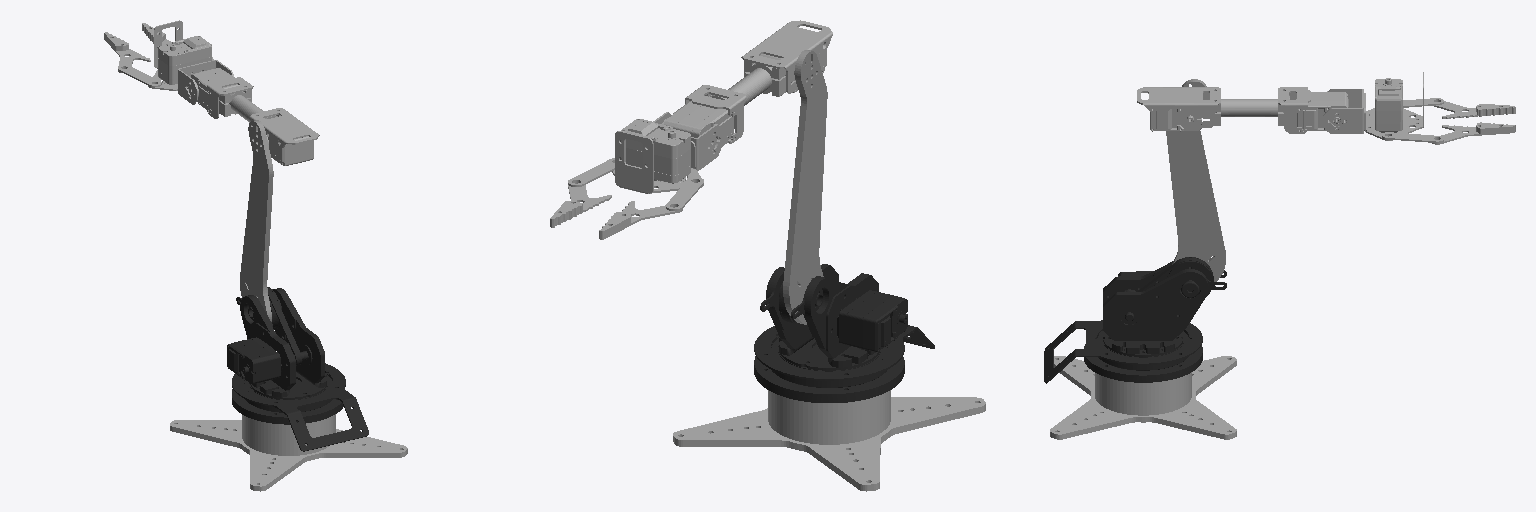
robot.urdf — roarm_assembly:
<?xml version="1.0" ?>
<!-- =================================================================================== -->
<!-- |    This document was autogenerated by xacro from [local-path]/ws_moveit/src/AgriBot/roarm_assembly_description/urdf/roarm_assembly.xacro | -->
<!-- |    EDITING THIS FILE BY HAND IS NOT RECOMMENDED                                 | -->
<!-- =================================================================================== -->
<robot name="roarm_assembly">
    <material name="silver_default">
        <color rgba="0.700 0.700 0.700 1.000" />
    </material>
    <material name="opaque565656">
        <color rgba="0.2196078431372549 0.2196078431372549 0.2196078431372549 1.0" />
    </material>
    <material name="steel_satin">
        <color rgba="0.6274509803921569 0.6274509803921569 0.6274509803921569 1.0" />
    </material>
    <transmission name="base_twist_tran">
        <type>transmission_interface/SimpleTransmission</type>
        <joint name="base_twist">
            <hardwareInterface>hardware_interface/PositionJointInterface</hardwareInterface>
        </joint>
        <actuator name="base_twist_actr">
            <hardwareInterface>hardware_interface/PositionJointInterface</hardwareInterface>
            <mechanicalReduction>1</mechanicalReduction>
        </actuator>
    </transmission>
    <transmission name="shoulder_tran">
        <type>transmission_interface/SimpleTransmission</type>
        <joint name="shoulder">
            <hardwareInterface>hardware_interface/PositionJointInterface</hardwareInterface>
        </joint>
        <actuator name="shoulder_actr">
            <hardwareInterface>hardware_interface/PositionJointInterface</hardwareInterface>
            <mechanicalReduction>1</mechanicalReduction>
        </actuator>
    </transmission>
    <transmission name="elbow_tran">
        <type>transmission_interface/SimpleTransmission</type>
        <joint name="elbow">
            <hardwareInterface>hardware_interface/PositionJointInterface</hardwareInterface>
        </joint>
        <actuator name="elbow_actr">
            <hardwareInterface>hardware_interface/PositionJointInterface</hardwareInterface>
            <mechanicalReduction>1</mechanicalReduction>
        </actuator>
    </transmission>
    <transmission name="wrist_tran">
        <type>transmission_interface/SimpleTransmission</type>
        <joint name="wrist">
            <hardwareInterface>hardware_interface/PositionJointInterface</hardwareInterface>
        </joint>
        <actuator name="wrist_actr">
            <hardwareInterface>hardware_interface/PositionJointInterface</hardwareInterface>
            <mechanicalReduction>1</mechanicalReduction>
        </actuator>
    </transmission>
    <transmission name="left_finger_tran">
        <type>transmission_interface/SimpleTransmission</type>
        <joint name="left_finger">
            <hardwareInterface>hardware_interface/PositionJointInterface</hardwareInterface>
        </joint>
        <actuator name="left_finger_actr">
            <hardwareInterface>hardware_interface/PositionJointInterface</hardwareInterface>
            <mechanicalReduction>1</mechanicalReduction>
        </actuator>
    </transmission>
    <transmission name="right_finger_tran">
        <type>transmission_interface/SimpleTransmission</type>
        <joint name="right_finger">
            <hardwareInterface>hardware_interface/PositionJointInterface</hardwareInterface>
        </joint>
        <actuator name="right_finger_actr">
            <hardwareInterface>hardware_interface/PositionJointInterface</hardwareInterface>
            <mechanicalReduction>1</mechanicalReduction>
        </actuator>
    </transmission>
<gazebo>
  <plugin name="control" filename="libgazebo_ros_control.so"/>
</gazebo>
    <gazebo reference="base_link">
        <material>Gazebo/Silver</material>
        <mu1>0.2</mu1>
        <mu2>0.2</mu2>
        <selfCollide>true</selfCollide>
        <gravity>true</gravity>
    </gazebo>
    <gazebo reference="link_1">
        <material>Gazebo/Silver</material>
        <mu1>0.2</mu1>
        <mu2>0.2</mu2>
        <selfCollide>true</selfCollide>
    </gazebo>
    <gazebo reference="link_2">
        <material>Gazebo/Silver</material>
        <mu1>0.2</mu1>
        <mu2>0.2</mu2>
        <selfCollide>true</selfCollide>
    </gazebo>
    <gazebo reference="link_3">
        <material>Gazebo/Silver</material>
        <mu1>0.2</mu1>
        <mu2>0.2</mu2>
        <selfCollide>true</selfCollide>
    </gazebo>
    <gazebo reference="eef_base">
        <material>Gazebo/Silver</material>
        <mu1>0.2</mu1>
        <mu2>0.2</mu2>
        <selfCollide>true</selfCollide>
    </gazebo>
    <gazebo reference="left_claw">
        <material>Gazebo/Silver</material>
        <mu1>0.2</mu1>
        <mu2>0.2</mu2>
        <selfCollide>true</selfCollide>
    </gazebo>
    <gazebo reference="right_claw">
        <material>Gazebo/Silver</material>
        <mu1>0.2</mu1>
        <mu2>0.2</mu2>
        <selfCollide>true</selfCollide>
    </gazebo>
    <link name="base_link">
        <inertial>
            <origin rpy="0 0 0" xyz="2.842170943040401e-16 1.6253665080512292e-15 0.010307344162242452" />
            <mass value="0.9330886709339293" />
            <inertia ixx="0.001421" ixy="0.0" ixz="0.0" iyy="0.001421" iyz="-0.0" izz="0.002578" />
        </inertial>
        <visual>
            <origin rpy="0 0 0" xyz="0 0 0" />
            <geometry>
                <mesh filename="package://roarm_assembly_description/meshes/base_link.stl" scale="0.001 0.001 0.001" />
            </geometry>
            <material name="silver_default" />
        </visual>
        <collision>
            <origin rpy="0 0 0" xyz="0 0 0" />
            <geometry>
                <mesh filename="package://roarm_assembly_description/meshes/base_link.stl" scale="0.001 0.001 0.001" />
            </geometry>
        </collision>
    </link>
    <link name="link_1">
        <inertial>
            <origin rpy="0 0 0" xyz="-0.003248824428456881 0.00456933378923944 0.025593798133347008" />
            <mass value="1.6261208283126793" />
            <inertia ixx="0.002624" ixy="-2.6e-05" ixz="0.000319" iyy="0.002426" iyz="-0.000455" izz="0.002118" />
        </inertial>
        <visual>
            <origin rpy="0 0 0" xyz="0.0 -0.0 -0.041" />
            <geometry>
                <mesh filename="package://roarm_assembly_description/meshes/link_1__1__1.stl" scale="0.001 0.001 0.001" />
            </geometry>
            <material name="opaque565656" />
        </visual>
        <collision>
            <origin rpy="0 0 0" xyz="0.0 -0.0 -0.041" />
            <geometry>
                <mesh filename="package://roarm_assembly_description/meshes/link_1__1__1.stl" scale="0.001 0.001 0.001" />
            </geometry>
        </collision>
    </link>
    <link name="link_2">
        <inertial>
            <origin rpy="0 0 0" xyz="0.0014995401177805212 0.0024349435050276605 0.08033532296460895" />
            <mass value="0.2532575834482899" />
            <inertia ixx="0.000795" ixy="0.0" ixz="-0.0" iyy="0.000761" iyz="5.6e-05" izz="3.6e-05" />
        </inertial>
        <visual>
            <origin rpy="0 0 0" xyz="0.008711 -0.041051 -0.11574" />
            <geometry>
                <mesh filename="package://roarm_assembly_description/meshes/link_2__1__1.stl" scale="0.001 0.001 0.001" />
            </geometry>
            <material name="steel_satin" />
        </visual>
        <collision>
            <origin rpy="0 0 0" xyz="0.008711 -0.041051 -0.11574" />
            <geometry>
                <mesh filename="package://roarm_assembly_description/meshes/link_2__1__1.stl" scale="0.001 0.001 0.001" />
            </geometry>
        </collision>
    </link>
    <link name="link_3">
        <inertial>
            <origin rpy="0 0 0" xyz="0.01895305134049728 0.04968902458298733 0.0013294047430696398" />
            <mass value="0.6682248227150333" />
            <inertia ixx="0.002549" ixy="-9e-06" ixz="-0.0" iyy="9.9e-05" iyz="2.1e-05" izz="0.00257" />
        </inertial>
        <visual>
            <origin rpy="0 0 0" xyz="0.004711 -0.041051 -0.284598" />
            <geometry>
                <mesh filename="package://roarm_assembly_description/meshes/link_3__1__1.stl" scale="0.001 0.001 0.001" />
            </geometry>
            <material name="silver_default" />
        </visual>
        <collision>
            <origin rpy="0 0 0" xyz="0.004711 -0.041051 -0.284598" />
            <geometry>
                <mesh filename="package://roarm_assembly_description/meshes/link_3__1__1.stl" scale="0.001 0.001 0.001" />
            </geometry>
        </collision>
    </link>
    <link name="eef_base">
        <inertial>
            <origin rpy="0 0 0" xyz="0.019105713731911726 0.04318596653770779 0.004330849807673176" />
            <mass value="0.33153308863416786" />
            <inertia ixx="9.1e-05" ixy="-0.0" ixz="-1e-06" iyy="9.2e-05" iyz="-5e-06" izz="0.000121" />
        </inertial>
        <visual>
            <origin rpy="0 0 0" xyz="0.004411 -0.168975 -0.284598" />
            <geometry>
                <mesh filename="package://roarm_assembly_description/meshes/eef_base_1.stl" scale="0.001 0.001 0.001" />
            </geometry>
            <material name="silver_default" />
        </visual>
        <collision>
            <origin rpy="0 0 0" xyz="0.004411 -0.168975 -0.284598" />
            <geometry>
                <mesh filename="package://roarm_assembly_description/meshes/eef_base_1.stl" scale="0.001 0.001 0.001" />
            </geometry>
        </collision>
    </link>
    <link name="left_claw">
        <inertial>
            <origin rpy="0 0 0" xyz="0.006511678868823683 0.0644377863644181 0.0008022347112953687" />
            <mass value="0.027361315989100073" />
            <inertia ixx="2.5e-05" ixy="-5e-06" ixz="-0.0" iyy="2e-06" iyz="-0.0" izz="2.7e-05" />
        </inertial>
        <visual>
            <origin rpy="0 0 0" xyz="0.016901 -0.21391 -0.27514" />
            <geometry>
                <mesh filename="package://roarm_assembly_description/meshes/left_claw_1.stl" scale="0.001 0.001 0.001" />
            </geometry>
            <material name="silver_default" />
        </visual>
        <collision>
            <origin rpy="0 0 0" xyz="0.016901 -0.21391 -0.27514" />
            <geometry>
                <mesh filename="package://roarm_assembly_description/meshes/left_claw_1.stl" scale="0.001 0.001 0.001" />
            </geometry>
        </collision>
    </link>
    <link name="right_claw">
        <inertial>
            <origin rpy="0 0 0" xyz="-0.0065193592272983075 0.06443898009782462 0.0008022347112930373" />
            <mass value="0.027361315989100486" />
            <inertia ixx="2.5e-05" ixy="5e-06" ixz="0.0" iyy="2e-06" iyz="-0.0" izz="2.7e-05" />
        </inertial>
        <visual>
            <origin rpy="0 0 0" xyz="-0.046099 -0.21391 -0.27514" />
            <geometry>
                <mesh filename="package://roarm_assembly_description/meshes/right_claw_1.stl" scale="0.001 0.001 0.001" />
            </geometry>
            <material name="silver_default" />
        </visual>
        <collision>
            <origin rpy="0 0 0" xyz="-0.046099 -0.21391 -0.27514" />
            <geometry>
                <mesh filename="package://roarm_assembly_description/meshes/right_claw_1.stl" scale="0.001 0.001 0.001" />
            </geometry>
        </collision>
    </link>
    <joint name="base_twist" type="continuous">
        <origin rpy="0 0 0" xyz="0.0 0.0 0.041" />
        <parent link="base_link" />
        <child link="link_1" />
        <axis xyz="0.0 0.0 1.0" />
    </joint>
    <joint name="shoulder" type="revolute">
        <origin rpy="0 0 0" xyz="-0.008711 0.041051 0.07474" />
        <parent link="link_1" />
        <child link="link_2" />
        <axis xyz="1.0 0.0 -0.0" />
        <limit effort="100" lower="-2.094395" upper="1.396263" velocity="100" />
    </joint>
    <joint name="elbow" type="revolute">
        <origin rpy="0 0 0" xyz="0.004 0.0 0.168858" />
        <parent link="link_2" />
        <child link="link_3" />
        <axis xyz="1.0 -0.0 -0.0" />
        <limit effort="100" lower="-2.617994" upper="2.617994" velocity="100" />
    </joint>
    <joint name="wrist" type="revolute">
        <origin rpy="0 0 0" xyz="0.0003 0.127924 0.0" />
        <parent link="link_3" />
        <child link="eef_base" />
        <axis xyz="-1.0 -0.0 0.0" />
        <limit effort="100" lower="-2.094395" upper="2.094395" velocity="100" />
    </joint>
    <joint name="left_finger" type="revolute">
        <origin rpy="0 0 0" xyz="-0.01249 0.044935 -0.009458" />
        <parent link="eef_base" />
        <child link="left_claw" />
        <axis xyz="0.0 -0.0 1.0" />
        <limit effort="100" lower="-0.261799" upper="1.308997" velocity="100" />
    </joint>
    <joint name="right_finger" type="revolute">
        <origin rpy="0 0 0" xyz="0.05051 0.044935 -0.009458" />
        <parent link="eef_base" />
        <child link="right_claw" />
        <axis xyz="0.0 -0.0 1.0" />
        <limit effort="100" lower="-1.308997" upper="0.261799" velocity="100" />
    </joint>
</robot>

--- What the picture shows (computed from the rendered views, not written in the file) ---
Views: 3 orthographic renders of the robot side by side, from view 1: azimuth 30°, elevation 25°; view 2: azimuth 150°, elevation 25°; view 3: azimuth 270°, elevation 25°.
Robot: roarm_assembly — 7 links, 6 joints (5 revolute, 1 continuous); root link base_link; default pose: all joints at 0.
Links seen in each view (by area): view 1: link_1, base_link, link_3, link_2, eef_base, left_claw; view 2: link_1, base_link, link_2, link_3, eef_base, left_claw, right_claw; view 3: link_1, base_link, link_3, link_2, eef_base, right_claw, left_claw.
Link boxes in pixels (x1,y1,x2,y2): link_1: [227, 287, 368, 451]; base_link: [170, 414, 407, 491]; link_3: [187, 68, 319, 165]; link_2: [240, 120, 273, 321]; eef_base: [148, 20, 233, 104]; left_claw: [104, 32, 161, 86]; link_1: [754, 264, 934, 402]; base_link: [673, 390, 985, 491]; link_2: [783, 50, 827, 324]; link_3: [662, 20, 832, 152]; eef_base: [612, 112, 722, 193]; left_claw: [599, 177, 703, 239]; right_claw: [550, 158, 614, 227]; link_1: [1044, 257, 1226, 383]; base_link: [1050, 356, 1236, 439]; link_3: [1137, 87, 1348, 133]; link_2: [1166, 79, 1225, 281]; eef_base: [1323, 72, 1423, 140]; right_claw: [1382, 122, 1515, 144]; left_claw: [1403, 98, 1515, 118].
Bounding box of the posed robot: 0.1632 × 0.4107 × 0.3167 m (x, y, z).
Meshes: 7 distinct files referenced, 7 mesh visuals loaded (7 binary STL).